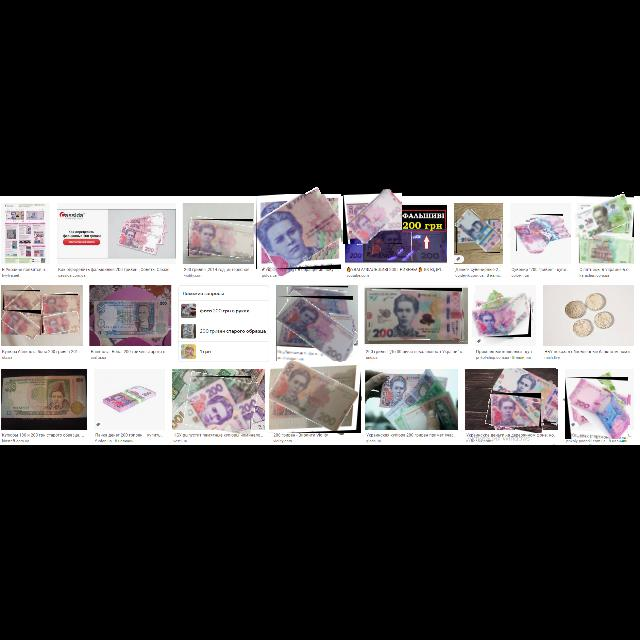200uah: (256, 194, 342, 270), (269, 362, 360, 432), (276, 297, 354, 362), (368, 291, 463, 340), (567, 378, 629, 440), (493, 368, 557, 423), (188, 378, 251, 430), (346, 189, 403, 245), (472, 293, 531, 337), (188, 219, 254, 257), (456, 209, 501, 253), (286, 287, 349, 311), (491, 395, 536, 427), (3, 290, 41, 318), (2, 310, 42, 336), (42, 312, 80, 334), (516, 225, 544, 252), (43, 294, 79, 314), (530, 216, 564, 232)
20uah: (575, 194, 634, 238), (579, 232, 634, 264)
